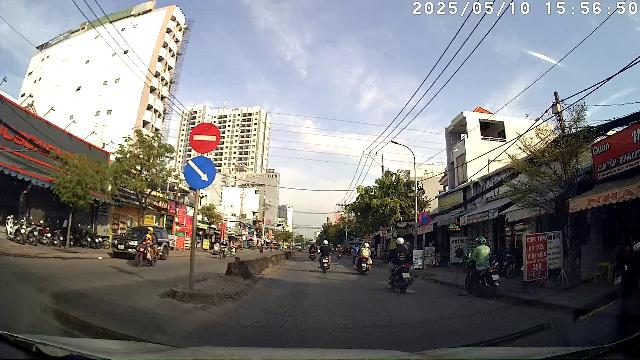102-cam-di-nguoc-chieu: (189, 122, 221, 154)
131a-cam-do-xe: (419, 212, 431, 226)
302a-huong-phai-di-vong-chuong-ngai-vat-1: (184, 155, 216, 189)
